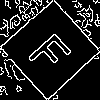F: (25, 24, 80, 78)
